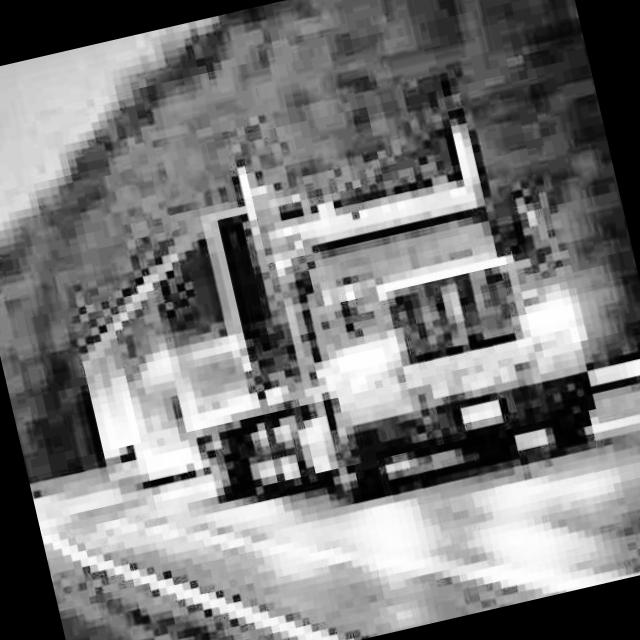Truck: (39, 92, 612, 550)
